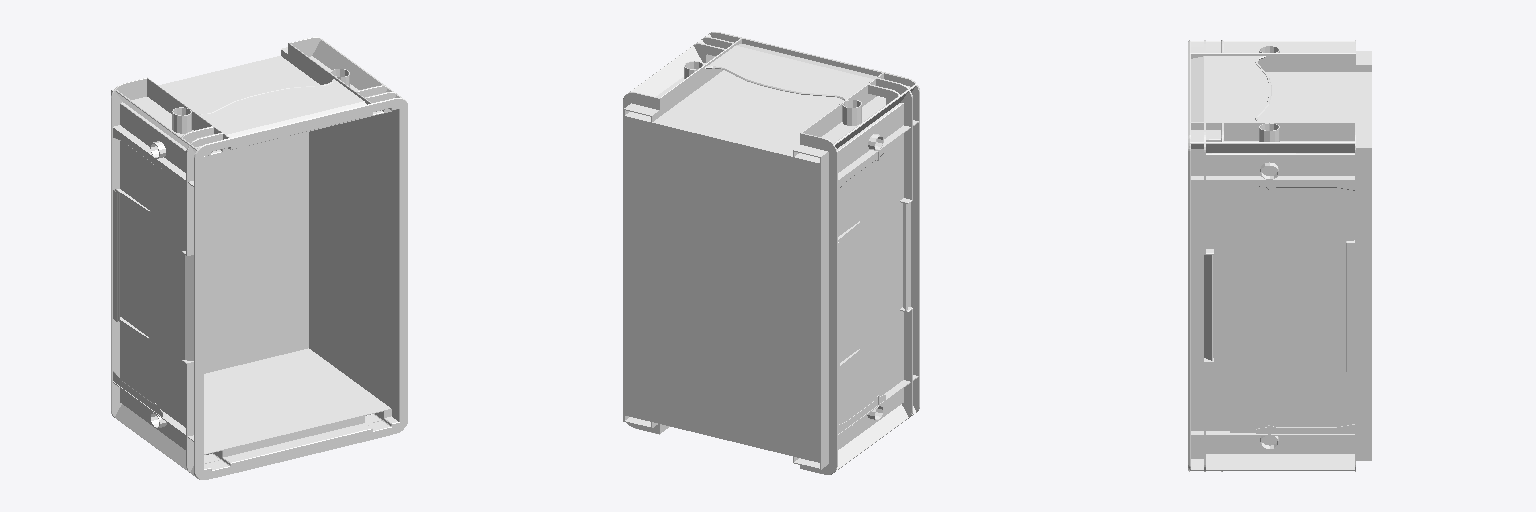
File: small_KLT_visual_collision.obj
3 views of the same model, side by side, from view 1: azimuth 30°, elevation 25°; view 2: azimuth 150°, elevation 25°; view 3: azimuth 270°, elevation 25° (orthographic).
Parts seen in each view (by area): view 1: FOF_Mesh_Magenta_Box; view 2: FOF_Mesh_Magenta_Box; view 3: FOF_Mesh_Magenta_Box, FOF_Mesh_Label_1.
Part boxes in pixels (x1,y1,x2,y2): FOF_Mesh_Magenta_Box: (111, 37, 407, 479); FOF_Mesh_Magenta_Box: (623, 32, 919, 474); FOF_Mesh_Magenta_Box: (1188, 40, 1371, 471); FOF_Mesh_Label_1: (1230, 181, 1353, 432).
Size of the model in its own units: 0.1978 by 0.2966 by 0.1464.